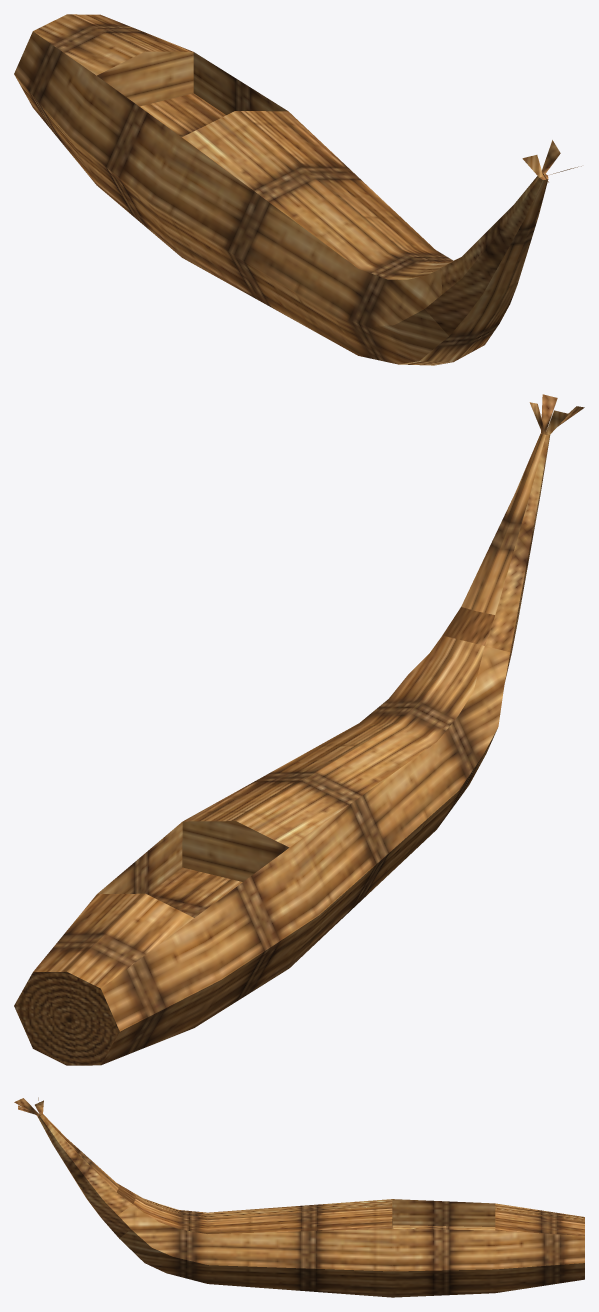
File: ship_fishing.dae
The picture shows the model from 3 angles, top to bottom: view 1: azimuth 30°, elevation 25°; view 2: azimuth 150°, elevation 25°; view 3: azimuth 270°, elevation 25°; orthographic projection. The views are drawn at different scales.
Visible parts, largest first — view 1: ship_fisher; view 2: ship_fisher; view 3: ship_fisher.
Part boxes in pixels (box(x1,y1,x2,y2)): ship_fisher: box(14, 14, 581, 365); ship_fisher: box(14, 394, 584, 1065); ship_fisher: box(14, 1097, 584, 1297).
Size of the model in its own units: 2 by 10.42 by 3.9.
